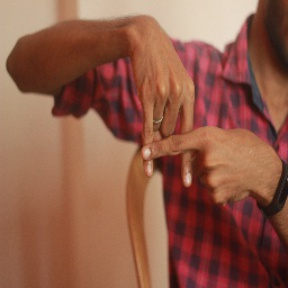H: (129, 71, 229, 221)
